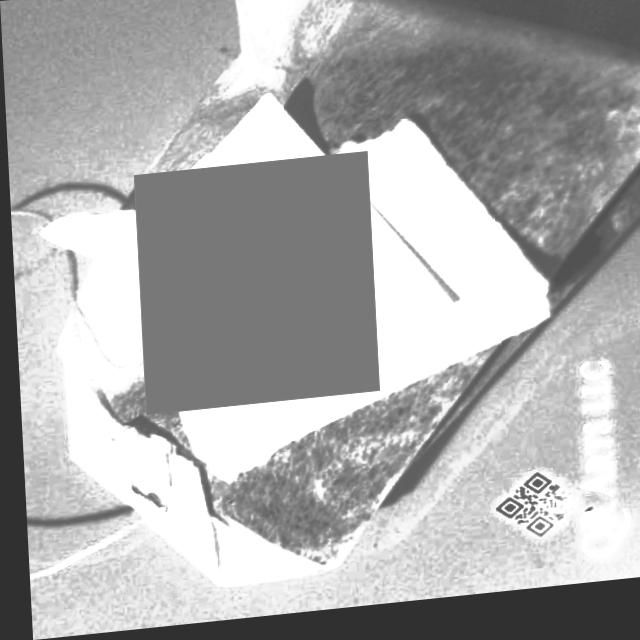qr_code: (132, 158, 375, 417)
